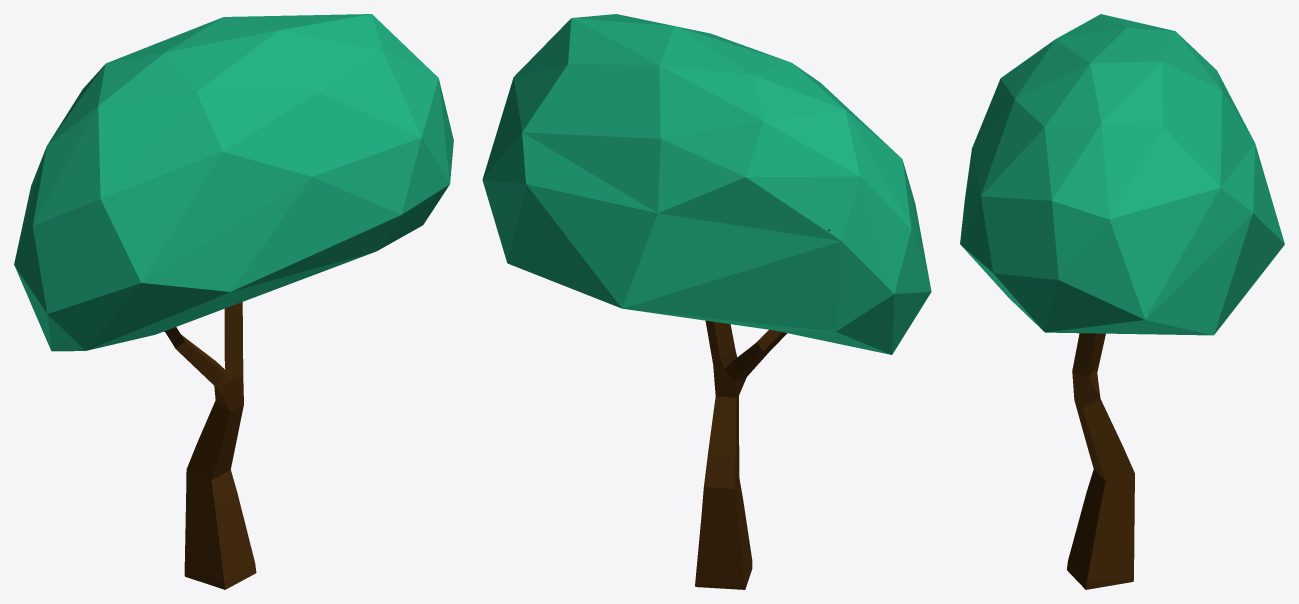
Rendered from Tree_Basic1.fbx.
The picture shows the model from 3 angles, left to right: view 1: azimuth 30°, elevation 25°; view 2: azimuth 150°, elevation 25°; view 3: azimuth 270°, elevation 25°; orthographic projection.
Visible parts, largest first — view 1: Tree.003, Tree.002; view 2: Tree.003, Tree.002; view 3: Tree.003, Tree.002.
Boxes of the visible parts, left/top/right/bottom form: Tree.003: left=14, top=14, right=453, bottom=351; Tree.002: left=102, top=302, right=256, bottom=589; Tree.003: left=482, top=14, right=931, bottom=354; Tree.002: left=695, top=229, right=829, bottom=589; Tree.003: left=960, top=14, right=1284, bottom=335; Tree.002: left=1066, top=333, right=1134, bottom=589.
Bounding box in the file's own units: 566 × 706 × 386.
